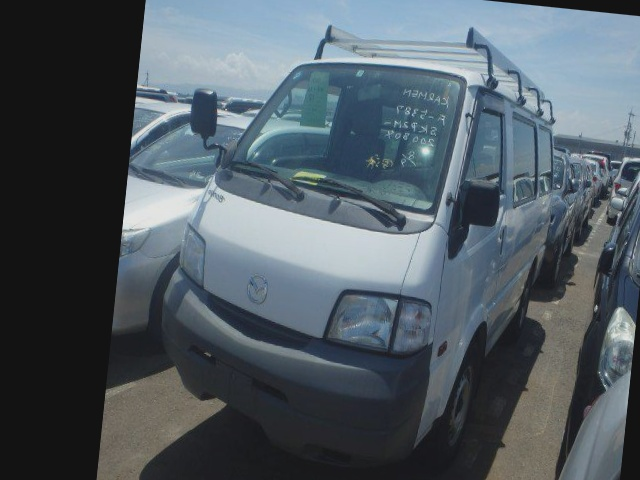van: (147, 25, 565, 474)
